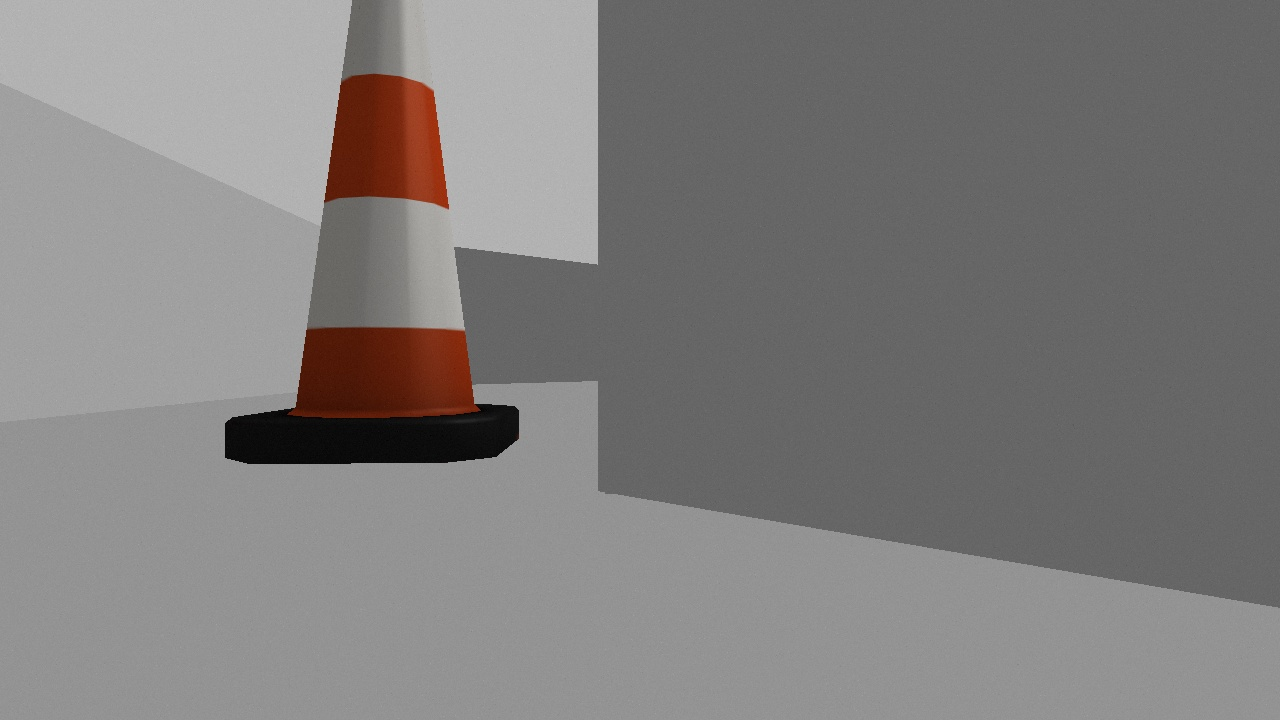barricade: (222, 1, 522, 464)
